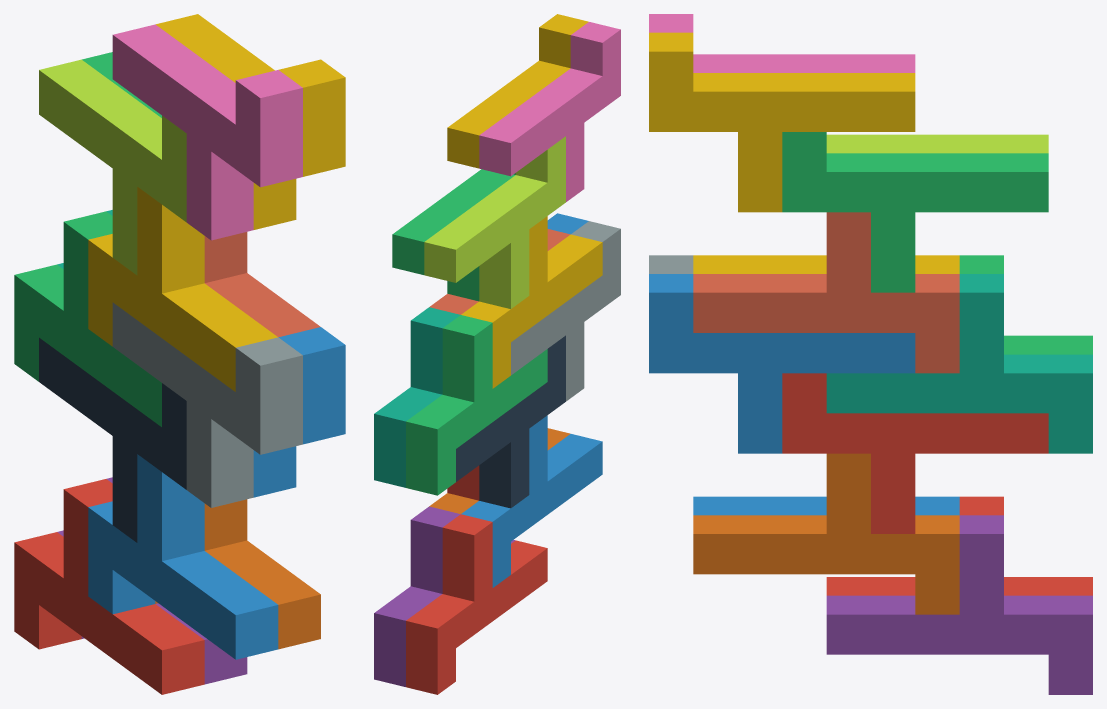
File: tiling.obj
The picture shows the model from 3 angles, left to right: view 1: azimuth 30°, elevation 25°; view 2: azimuth 150°, elevation 25°; view 3: azimuth 270°, elevation 25°; orthographic projection. The views are drawn at different scales.
Visible parts, largest first — view 1: copy_2_domain_4, copy_1_domain_2, copy_2_domain_2, copy_1_domain_1, copy_1_domain_4, copy_2_domain_3, copy_1_domain_3, copy_2_domain_1, copy_2_domain_8, copy_1_domain_6, copy_2_domain_6, copy_1_domain_8 (+2 smaller); view 2: copy_1_domain_1, copy_2_domain_3, copy_1_domain_3, copy_2_domain_4, copy_1_domain_2, copy_1_domain_4, copy_2_domain_1, copy_2_domain_2, copy_1_domain_5, copy_1_domain_7, copy_2_domain_8, copy_2_domain_7 (+4 smaller); view 3: copy_2_domain_8, copy_1_domain_5, copy_2_domain_7, copy_1_domain_6, copy_1_domain_8, copy_1_domain_7, copy_2_domain_6, copy_2_domain_5, copy_2_domain_4, copy_2_domain_3, copy_1_domain_1, copy_1_domain_2 (+3 smaller).
Boxes of the visible parts, box(x1,y1,x2,y2) form: copy_2_domain_4: box(112, 24, 302, 240); copy_1_domain_2: box(88, 454, 278, 659); copy_2_domain_2: box(112, 302, 302, 507); copy_1_domain_1: box(14, 479, 204, 694); copy_1_domain_4: box(88, 187, 277, 391); copy_2_domain_3: box(39, 59, 186, 275); copy_1_domain_3: box(14, 211, 161, 426); copy_2_domain_1: box(39, 337, 186, 542); copy_2_domain_8: box(156, 14, 345, 229); copy_1_domain_6: box(155, 499, 320, 649); copy_2_domain_6: box(253, 327, 345, 497); copy_1_domain_8: box(204, 232, 320, 337); copy_1_domain_1: box(406, 514, 547, 694); copy_2_domain_3: box(424, 136, 565, 308); copy_1_domain_3: box(406, 315, 547, 495); copy_2_domain_4: box(479, 22, 620, 201); copy_1_domain_2: box(461, 415, 602, 587); copy_1_domain_4: box(461, 216, 602, 388); copy_2_domain_1: box(456, 335, 565, 508); copy_2_domain_2: box(511, 221, 620, 401); copy_1_domain_5: box(374, 506, 515, 686); copy_1_domain_7: box(374, 307, 460, 487); copy_2_domain_8: box(447, 14, 588, 168); copy_2_domain_7: box(392, 169, 515, 301); copy_2_domain_8: box(649, 32, 915, 212); copy_1_domain_5: box(826, 515, 1092, 694); copy_2_domain_7: box(782, 132, 1048, 292); copy_1_domain_6: box(693, 453, 959, 614); copy_1_domain_8: box(693, 212, 959, 373); copy_1_domain_7: box(826, 274, 1092, 453); copy_2_domain_6: box(649, 274, 915, 453); copy_2_domain_5: box(782, 373, 1048, 533); copy_2_domain_4: box(649, 14, 915, 72); copy_2_domain_3: box(826, 134, 1048, 153); copy_1_domain_1: box(826, 496, 1092, 595); copy_1_domain_2: box(693, 496, 959, 515).
Size of the model in its own units: 2 by 16 by 10.
